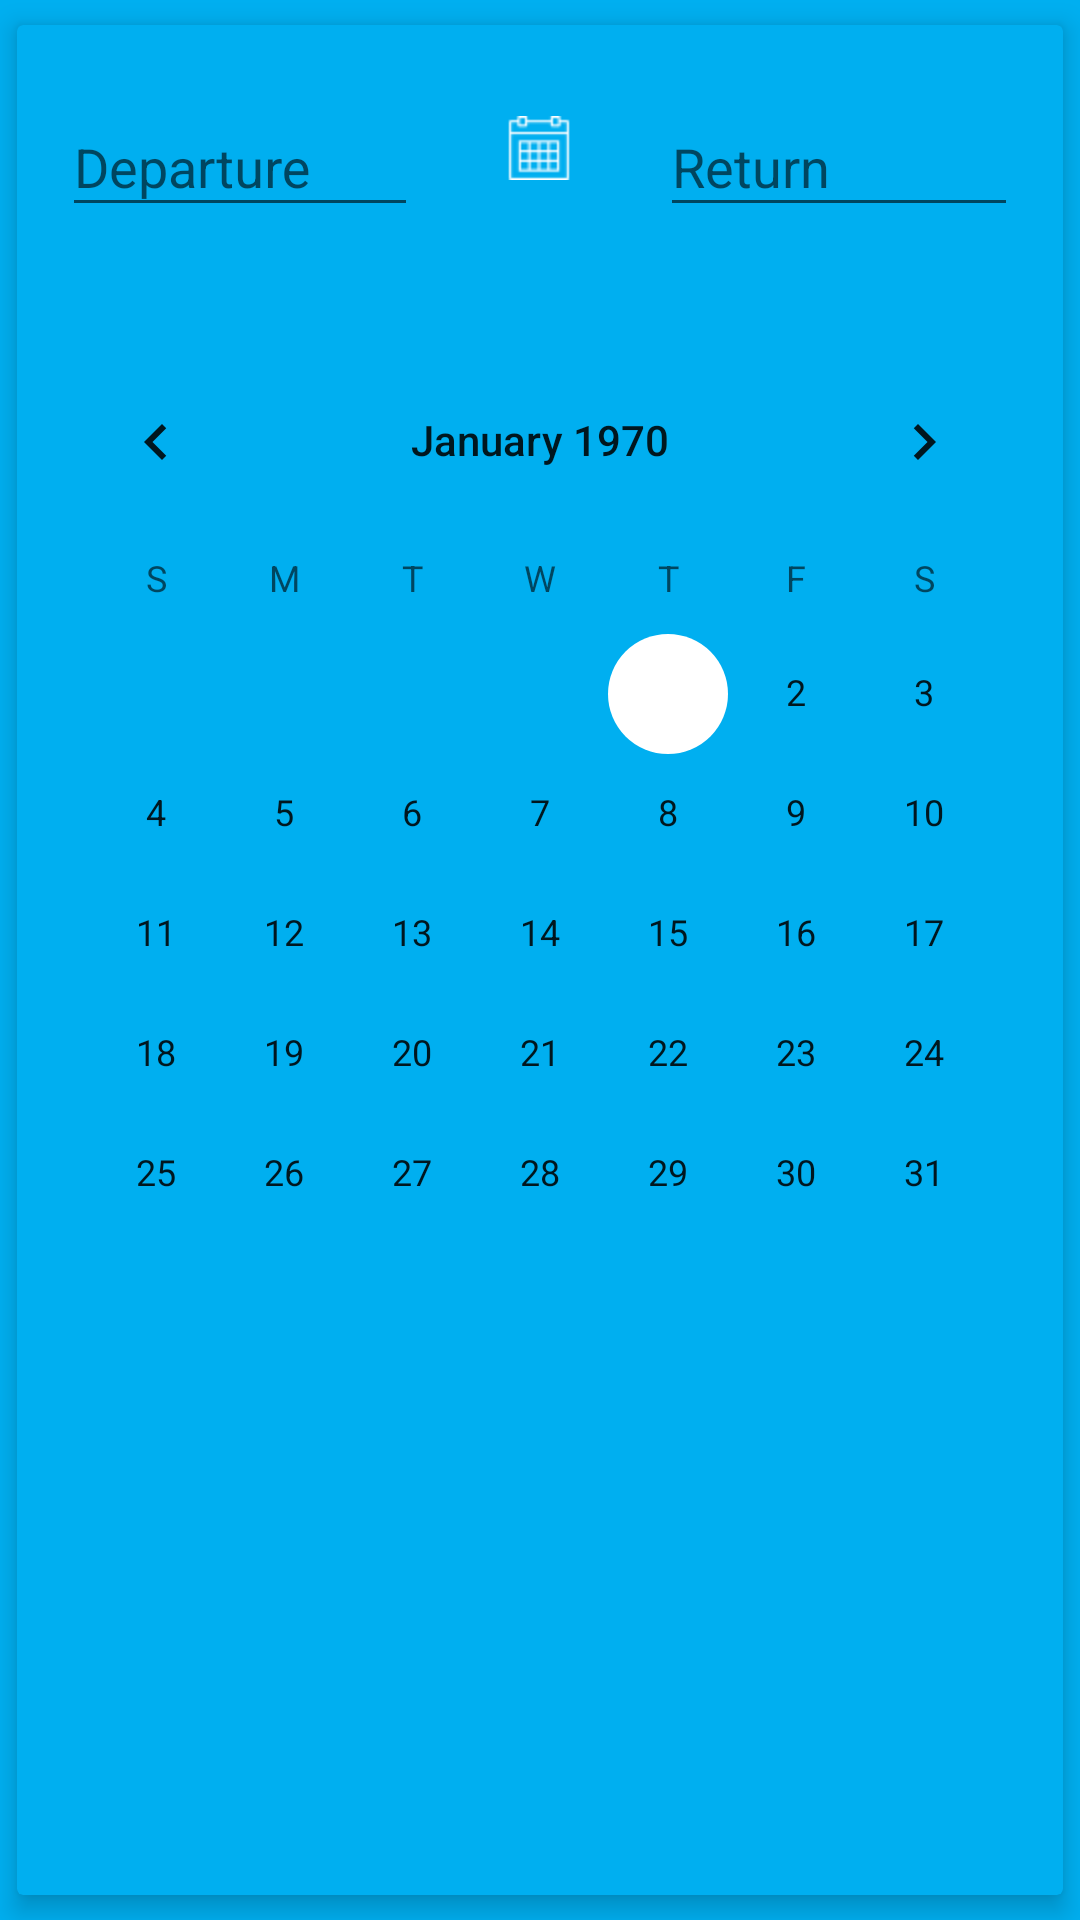

Screen size 1080 x 1920. Icon name, then its box in pixels as Rect(x1, y1, x2, y2):
calendarsmall: Rect(508, 116, 570, 180)
